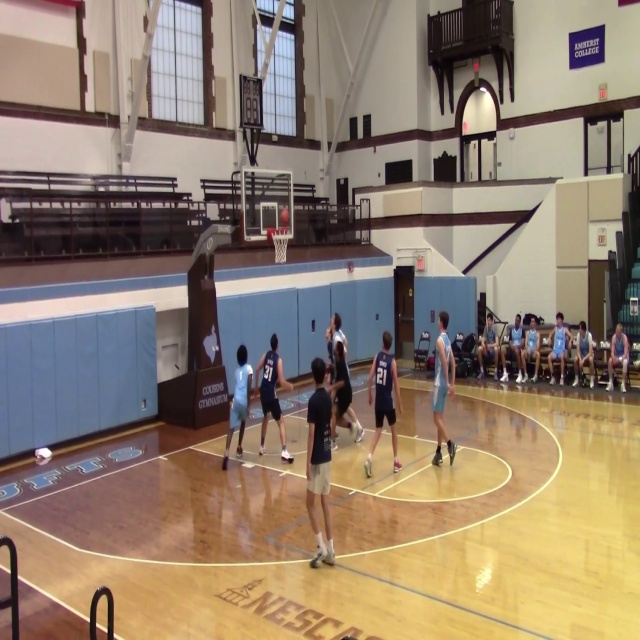Basketball: (35, 447, 52, 460), (280, 208, 289, 226)
